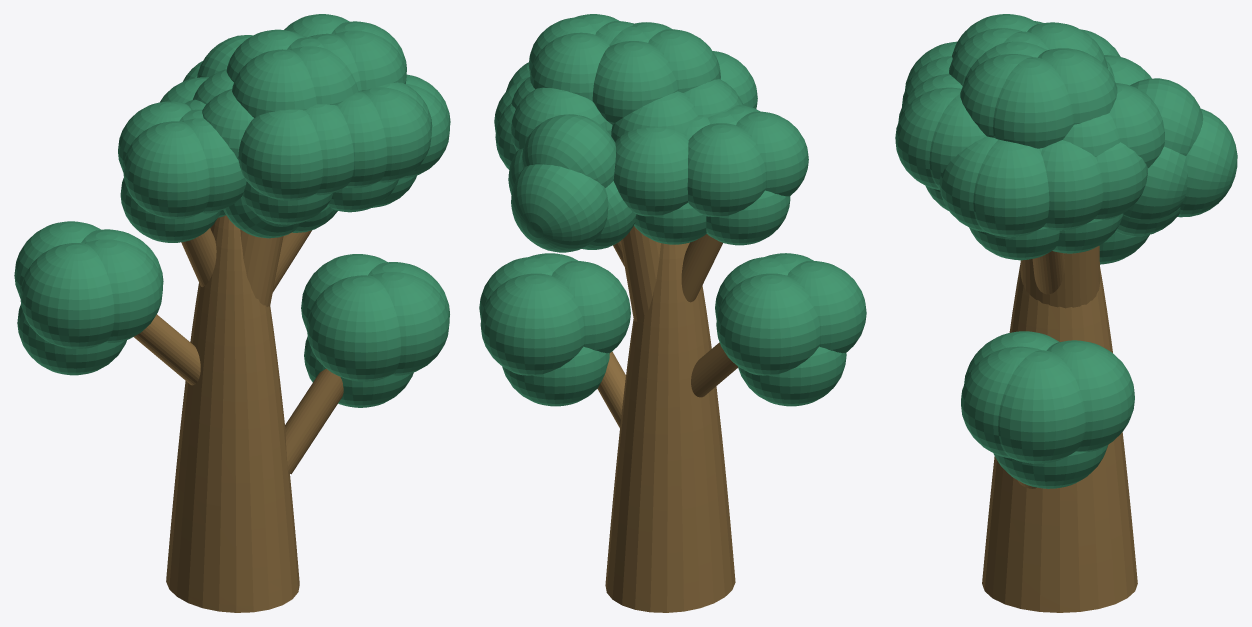
Rendered from Tree - Sample 3.glb.
3 views of the same model, side by side, from view 1: azimuth 30°, elevation 25°; view 2: azimuth 150°, elevation 25°; view 3: azimuth 270°, elevation 25° (orthographic). The views are drawn at different scales.
Parts seen in each view (by area): view 1: Mesh_Mesh_head_geo.001_lambert2SG.001; view 2: Mesh_Mesh_head_geo.001_lambert2SG.001; view 3: Mesh_Mesh_head_geo.001_lambert2SG.001.
Boxes of the visible parts, x1,y1,x2,y2 form: Mesh_Mesh_head_geo.001_lambert2SG.001: [14, 14, 450, 612]; Mesh_Mesh_head_geo.001_lambert2SG.001: [479, 14, 866, 612]; Mesh_Mesh_head_geo.001_lambert2SG.001: [895, 14, 1237, 612].
Bounding box in the file's own units: 56.78 × 73.59 × 39.51.
